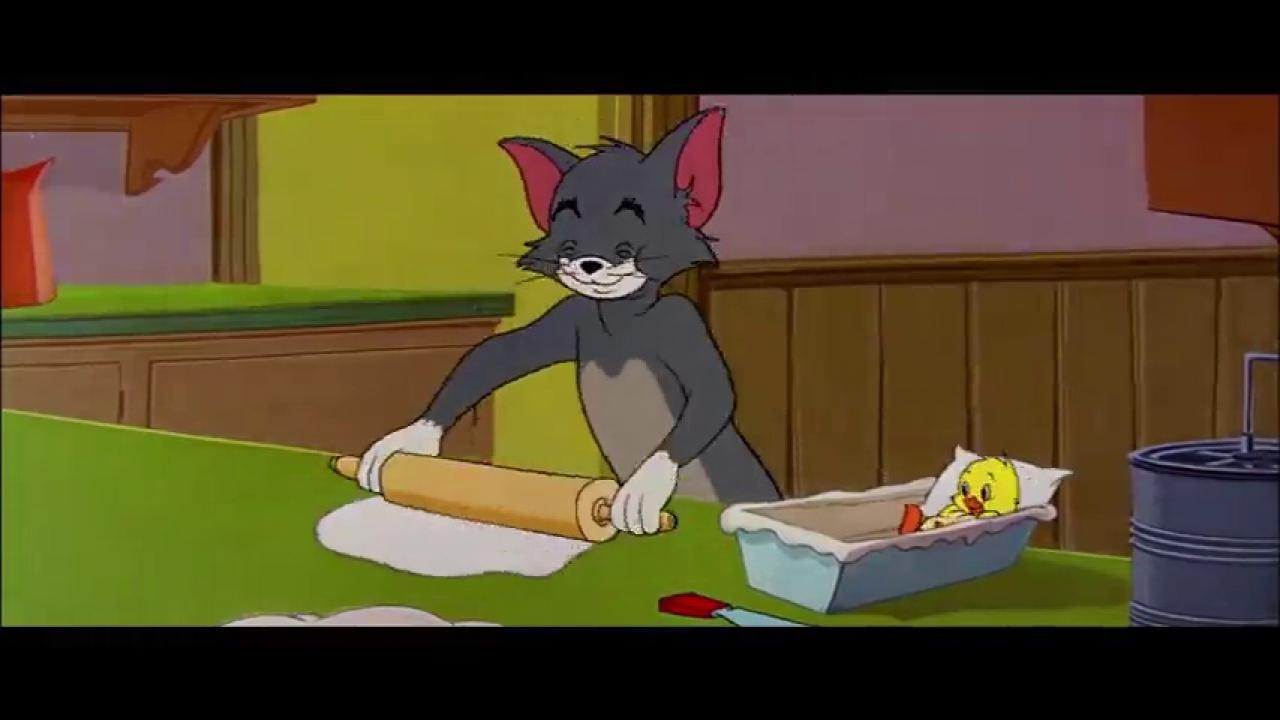Tom: (354, 104, 784, 535)
